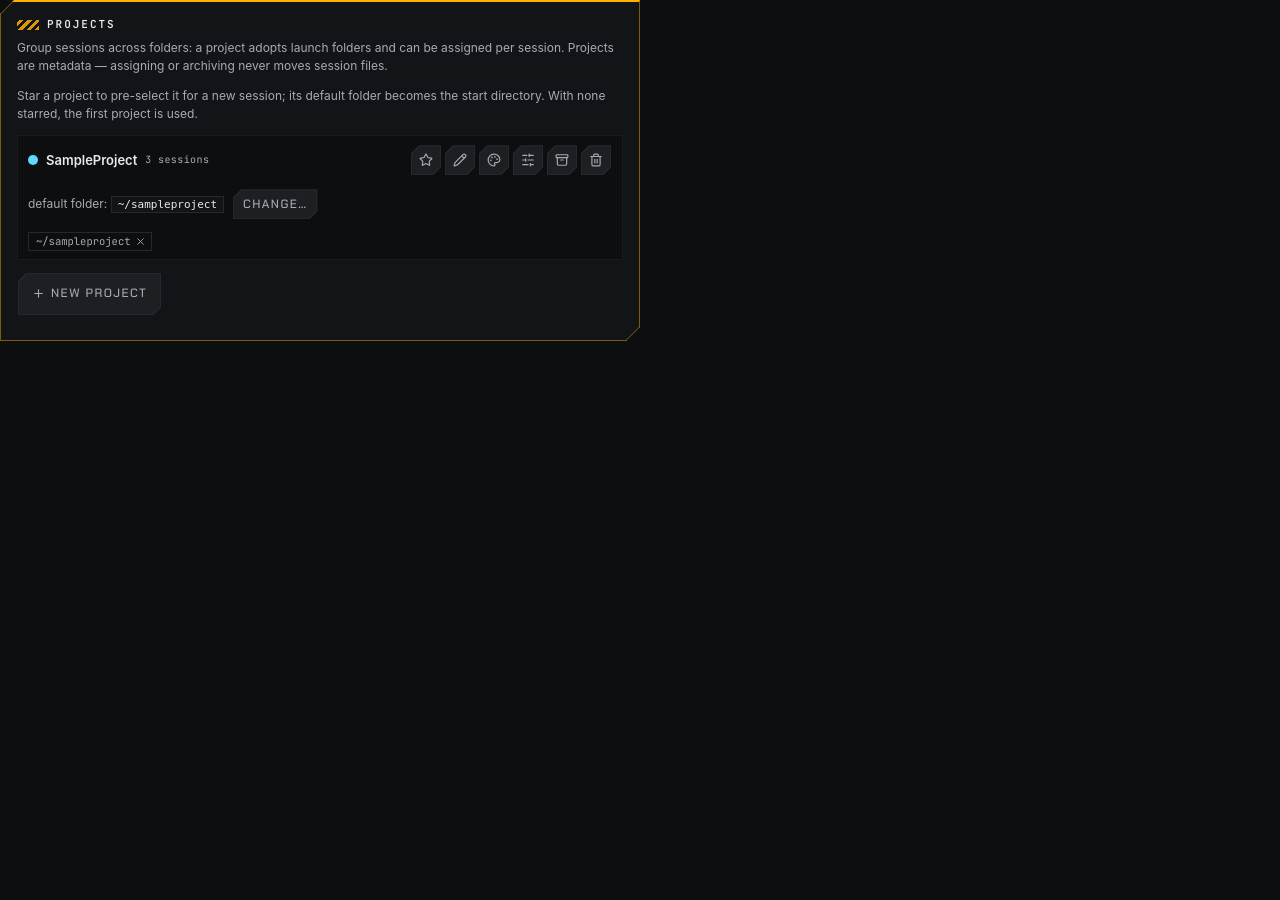
Test: delete asks in the shared confirm dialog (files-never-touched copy); confirming deletes (#1531)
Expected: the text "SampleProject" is shown, left=46, top=151, right=137, bottom=169
What coordinates should you click on to do the following:
click the button named "Delete project SampleProject"
I would click on:
 (596, 160)
Its box is left=580, top=144, right=612, bottom=176.
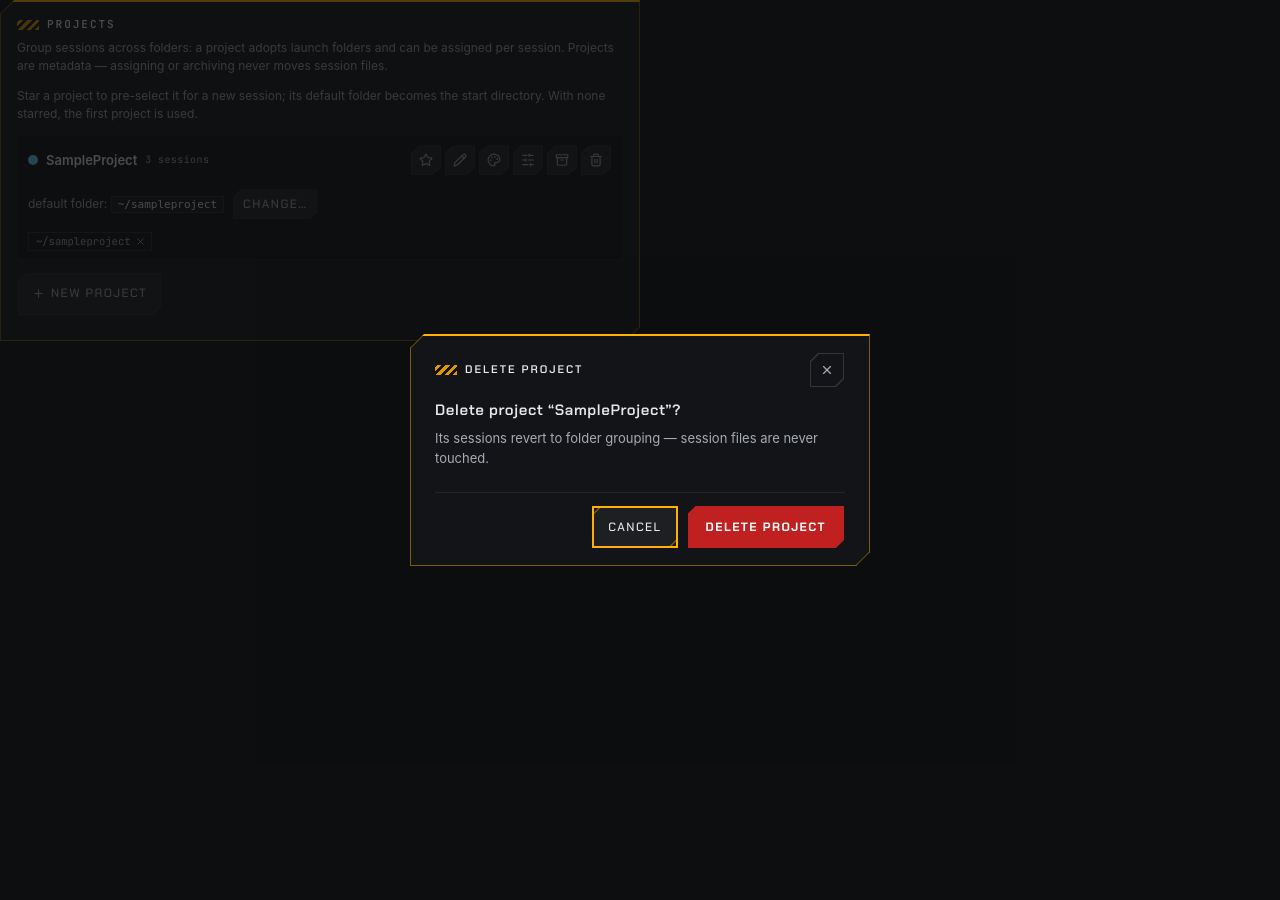
Expected: the dialog "Delete project “SampleProject”?" shows "never touched", left=435, top=430, right=818, bottom=466
What coordinates should you click on to do the following:
click the button "Delete project"
I would click on:
 (766, 527)
Its box is left=687, top=505, right=845, bottom=549.
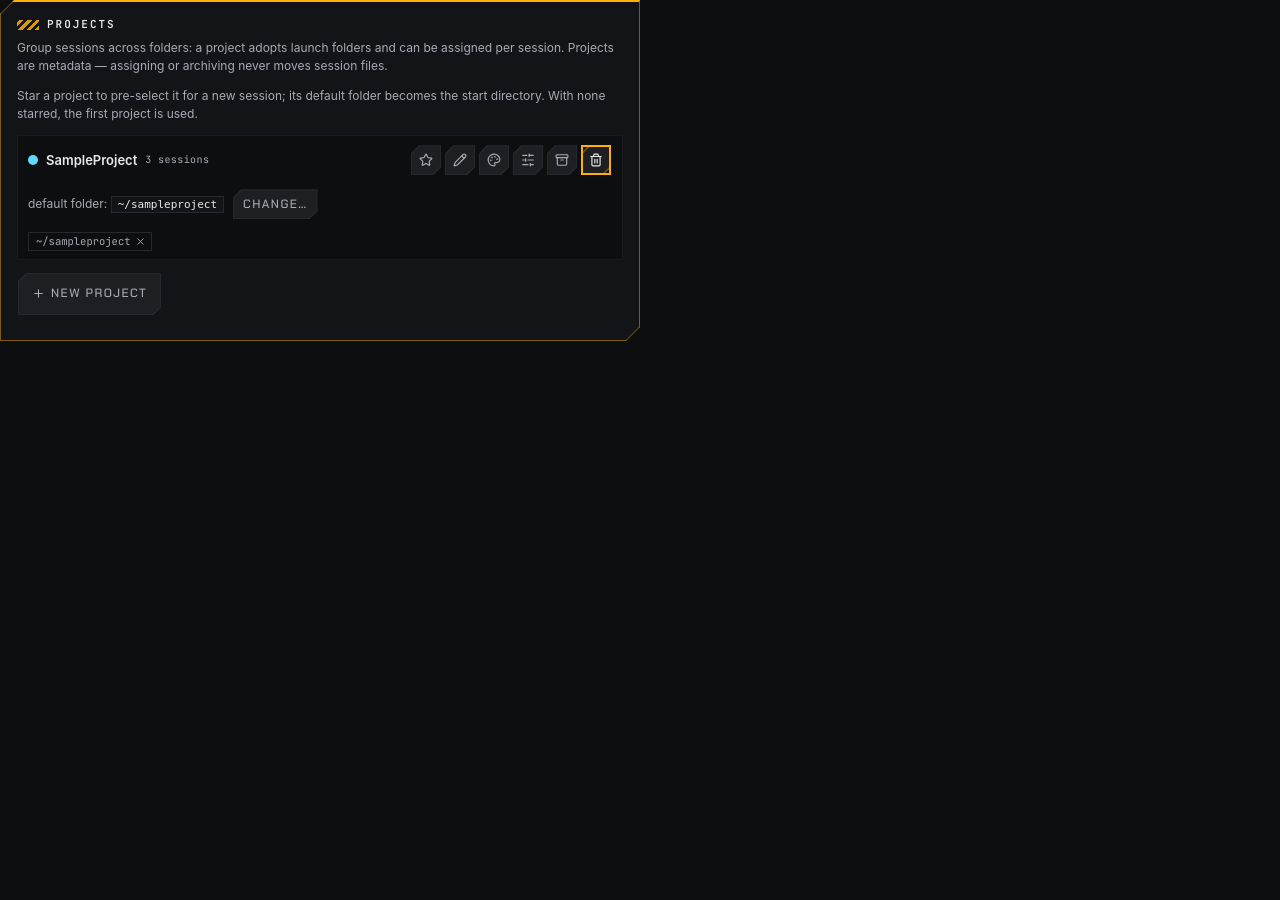
Expected: the dialog is gone
